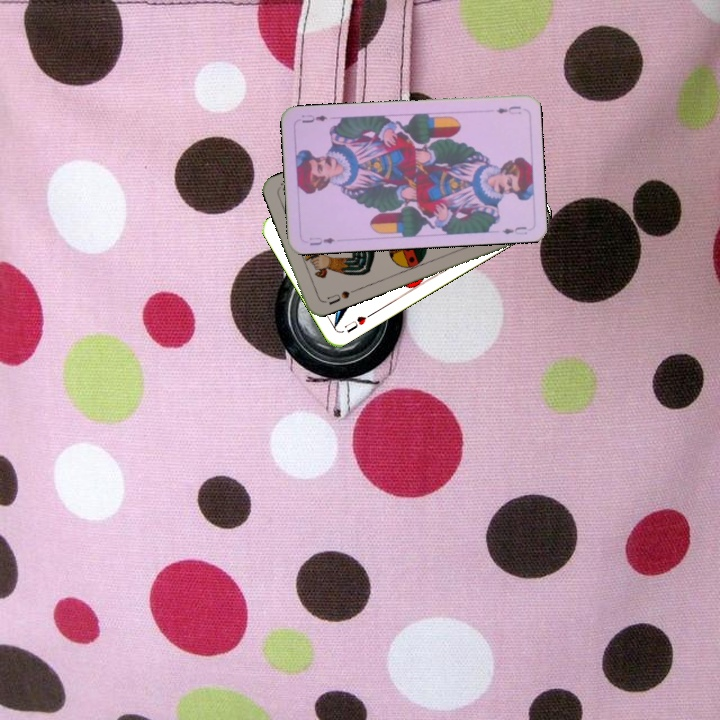EU: (305, 233, 338, 248), (492, 102, 523, 117)
HU: (340, 309, 375, 336)
SU: (323, 285, 359, 308)
